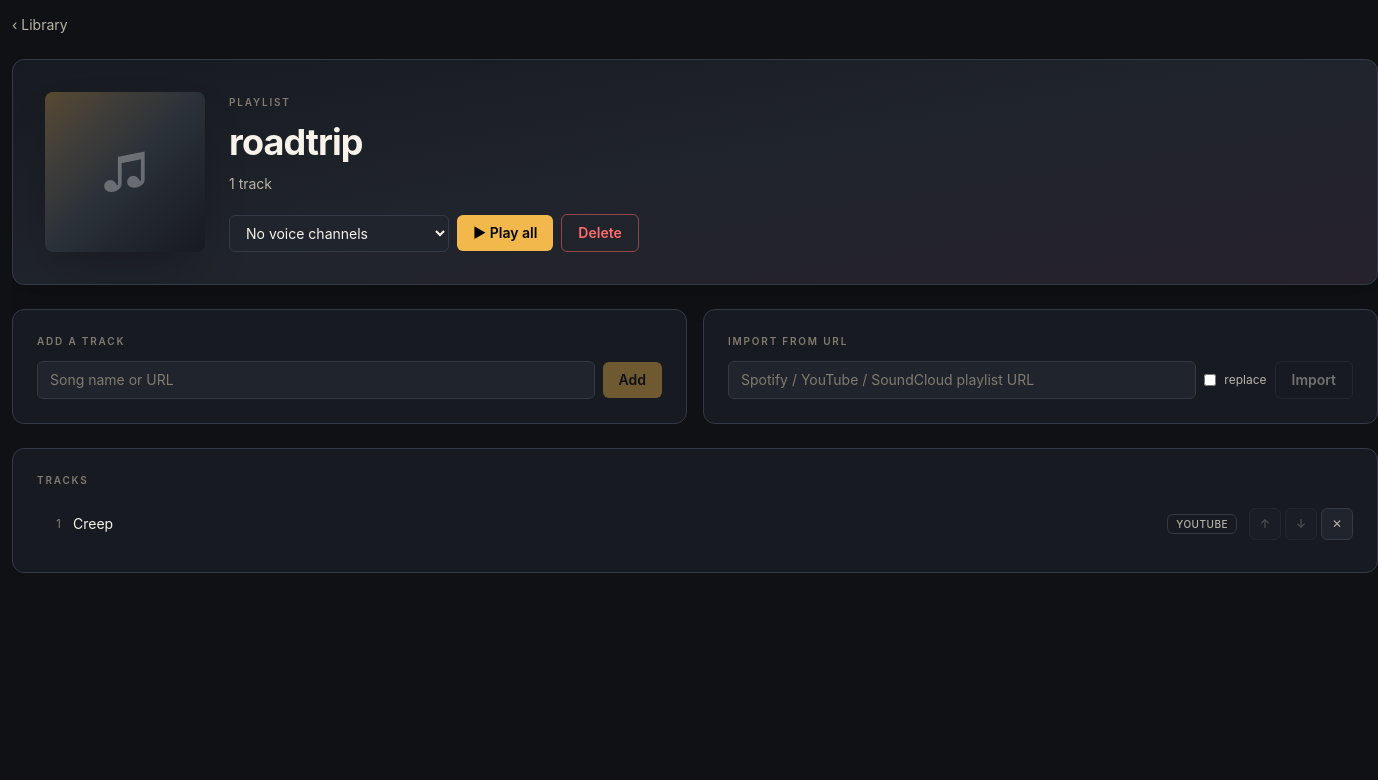
Test: PlaylistDetailPage delete confirmation › cancelling restores the plain delete button and deletes nothing
Click the button "Delete".
click(600, 233)  # box x1=561 y1=214 x2=639 y2=252
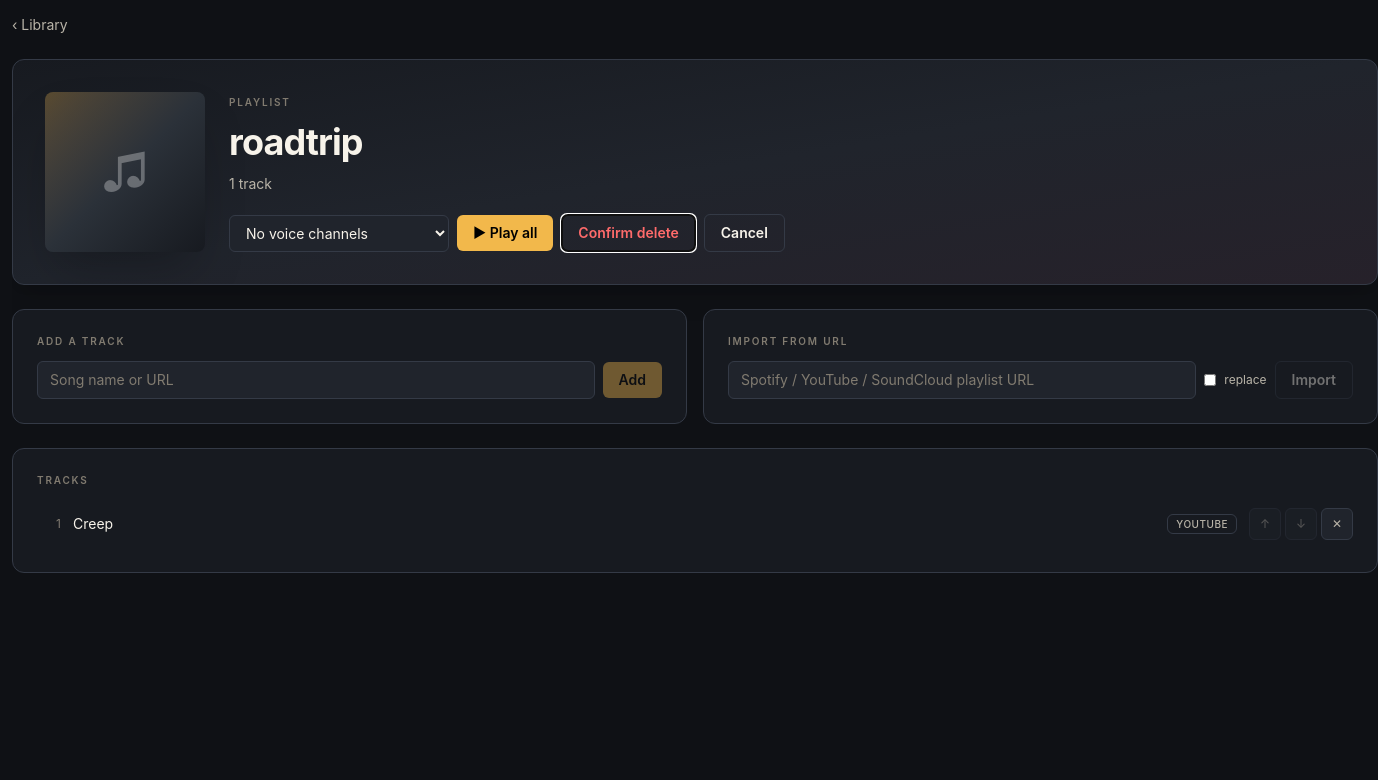
Click the button "Cancel".
click(744, 233)  # box x1=704 y1=214 x2=785 y2=252
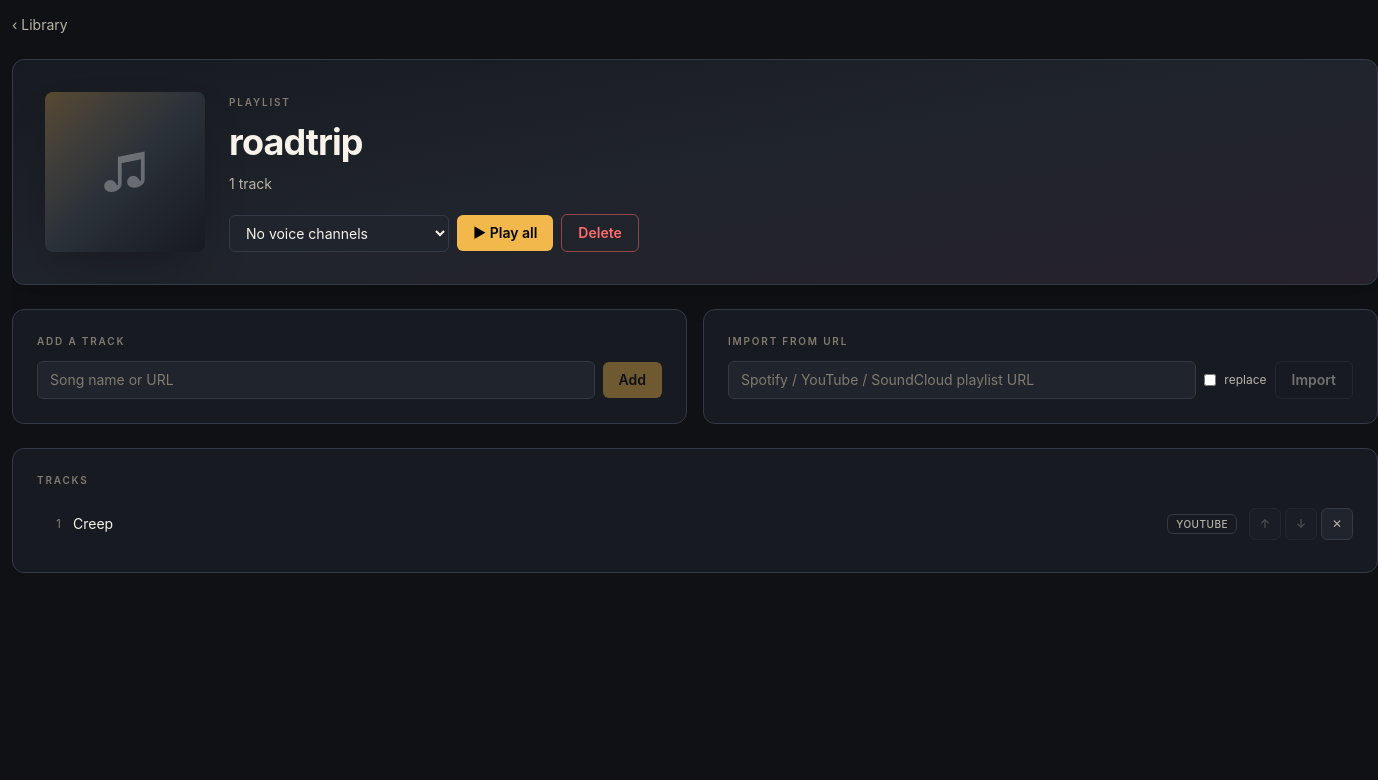
Expected: the button "Delete" is shown, x1=561 y1=214 x2=639 y2=252
Now the button "Confirm delete" is gone
